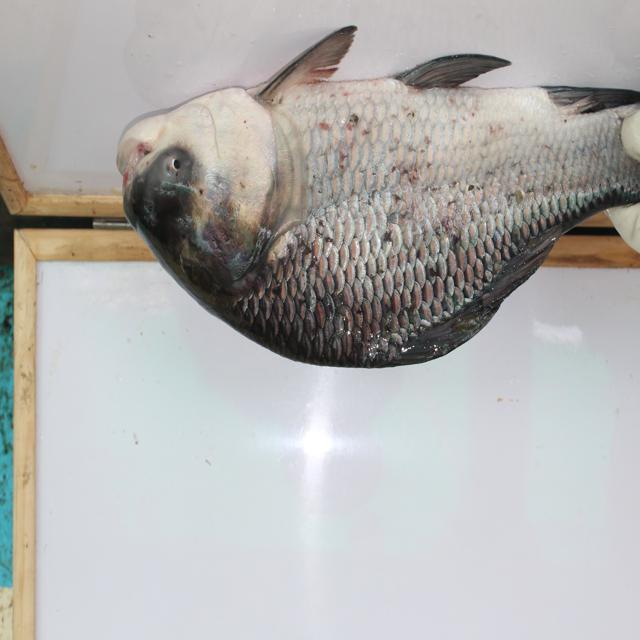Catla: (110, 21, 640, 371)
